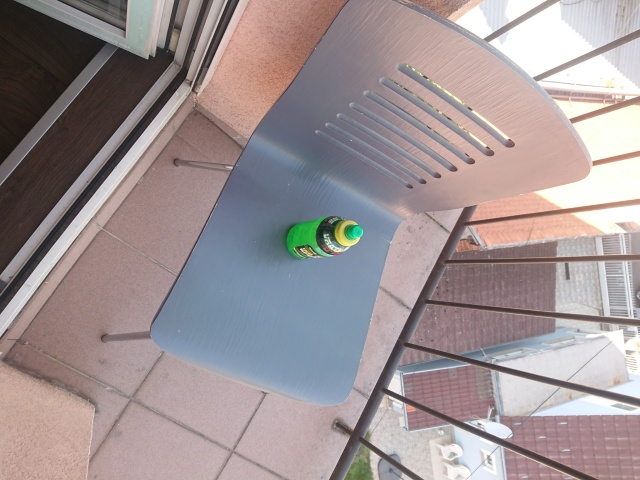Vindi Iso Sport Lemon-Grapefruit 500mL: (283, 213, 366, 262)
